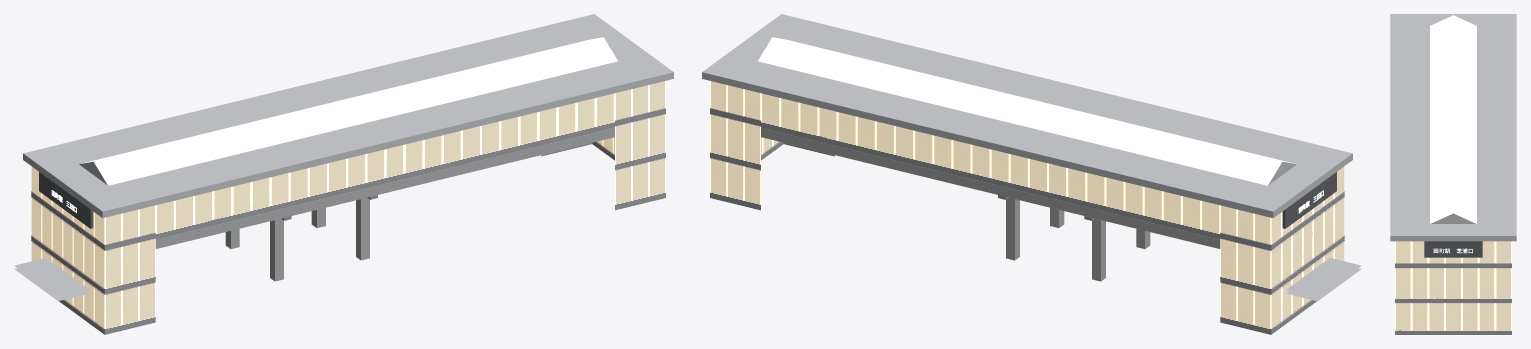
File: tamachi_station.glb
3 views of the same model, side by side, from view 1: azimuth 30°, elevation 25°; view 2: azimuth 150°, elevation 25°; view 3: azimuth 270°, elevation 25° (orthographic). The views are drawn at different scales.
Visible parts, largest first — view 1: TM_Station; view 2: TM_Station; view 3: TM_Station, TM_Sign.001.
Part boxes in pixels (x1=…): TM_Station: x1=14, y1=14, x2=673, y2=334; TM_Station: x1=702, y1=14, x2=1361, y2=334; TM_Station: x1=1390, y1=14, x2=1516, y2=334; TM_Sign.001: x1=1433, y1=248, x2=1472, y2=253.
Size of the model in its own units: 93.8 by 21 by 21.6.
Materials: 8 (2 with a texture image).
